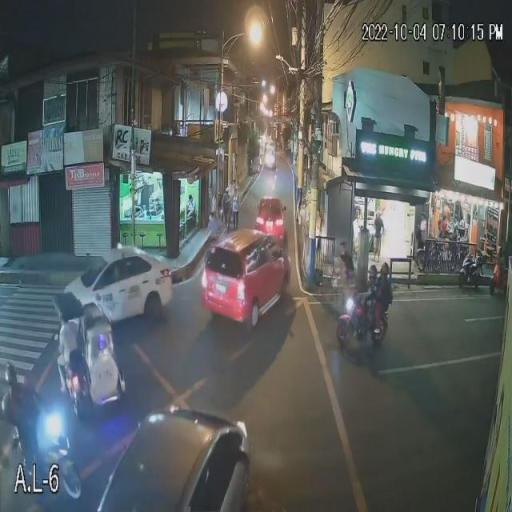helmet: (362, 261, 379, 280), (378, 262, 395, 281)
motorcycle: (338, 287, 394, 347)
rider: (353, 278, 379, 338), (372, 276, 395, 335)
